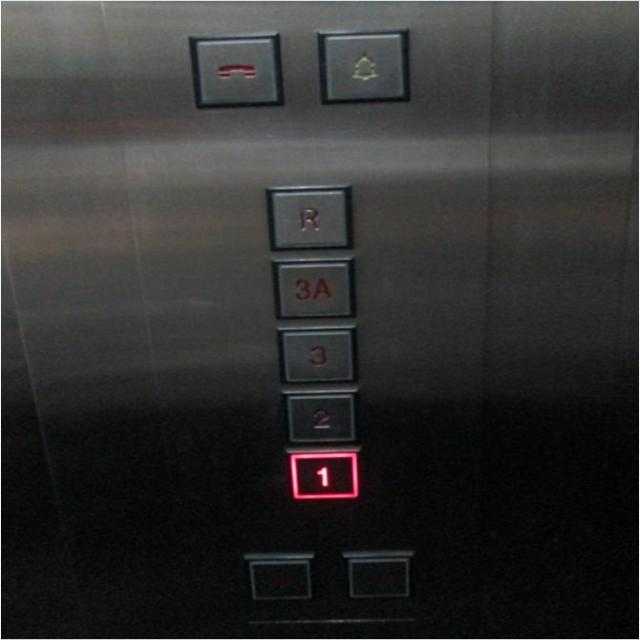1: (285, 447, 362, 502)
2: (282, 389, 359, 445)
3: (273, 324, 358, 384)
3A: (268, 254, 358, 322)
R: (262, 183, 352, 250)
alarm: (310, 26, 416, 104)
blur: (338, 549, 416, 604), (241, 549, 318, 604)
call: (182, 31, 288, 110)
